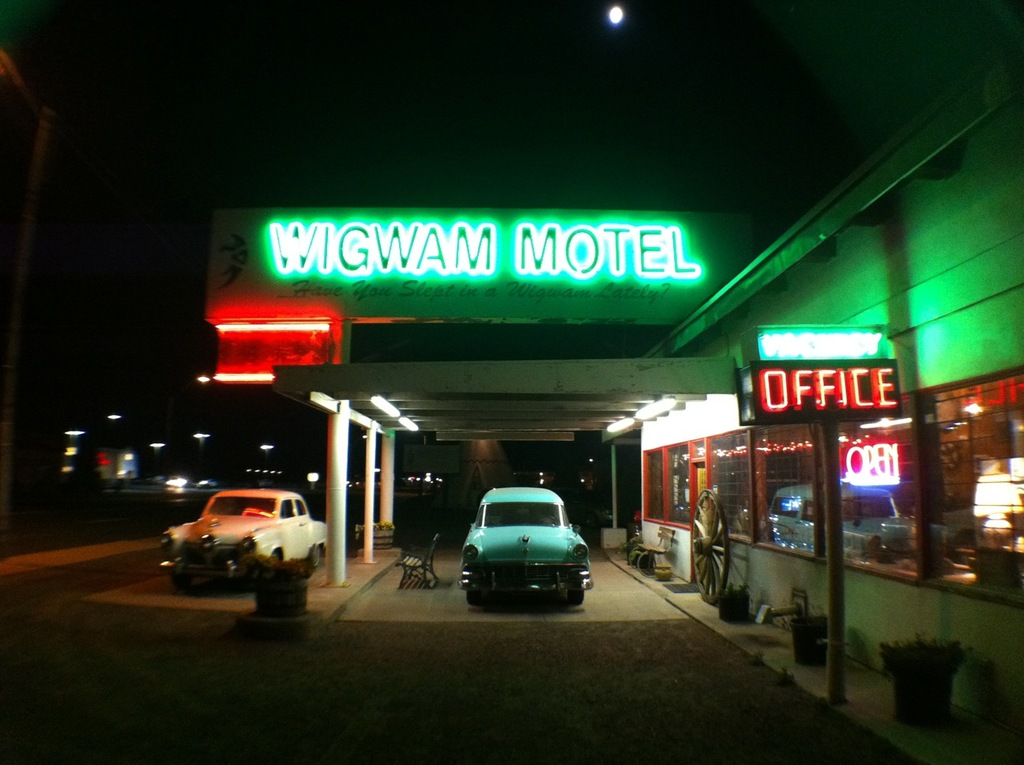Car: (452, 481, 591, 611), (153, 489, 330, 587), (166, 474, 192, 488), (197, 479, 215, 491)
